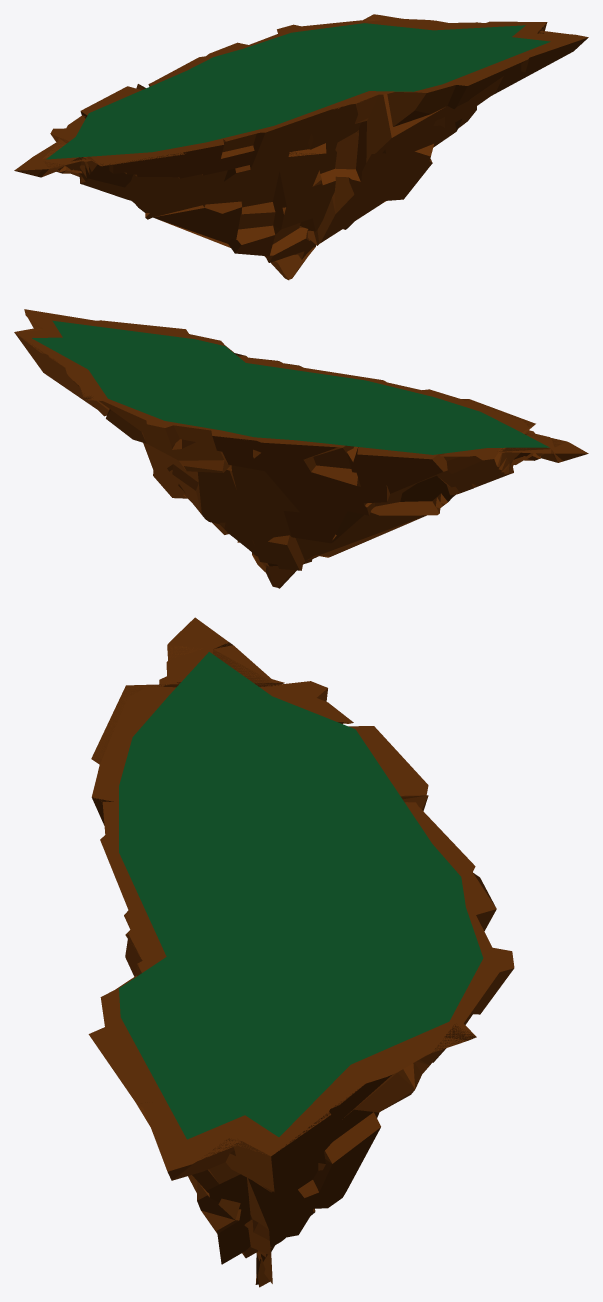
File: island-2.glb
3 renders of one model, top to bottom at view 1: azimuth 30°, elevation 25°; view 2: azimuth 150°, elevation 25°; view 3: azimuth 270°, elevation 25°, orthographic. The views are drawn at different scales.
Parts seen in each view (by area): view 1: Vert, Vert.001; view 2: Vert, Vert.001; view 3: Vert.001, Vert.
Boxes of the visible parts, box(x1,y1,x2,y2) form: Vert: box(14, 14, 588, 280); Vert.001: box(46, 23, 550, 159); Vert: box(14, 309, 588, 588); Vert.001: box(32, 320, 549, 454); Vert.001: box(119, 652, 483, 1139); Vert: box(88, 617, 514, 1287).
Bounding box in the file's own units: 11.33 × 3.66 × 3.68.
